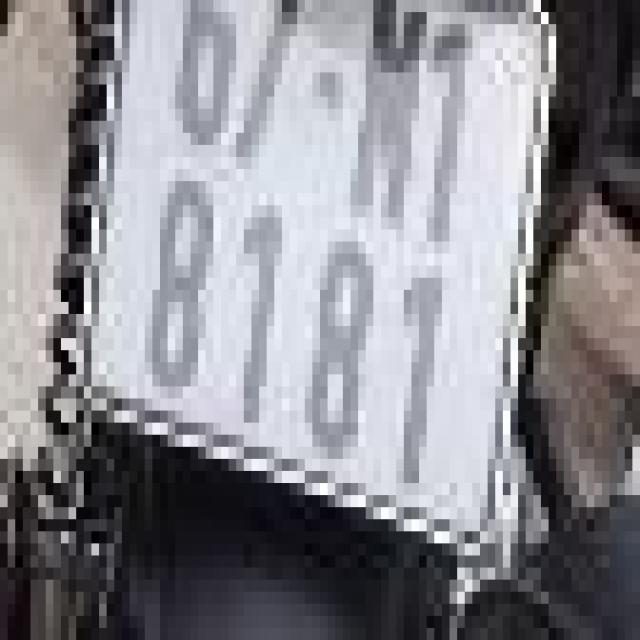1: (416, 0, 494, 266), (217, 194, 297, 438), (380, 256, 454, 504)
6: (165, 0, 250, 158)
7: (229, 0, 318, 181)
8: (135, 167, 230, 405), (300, 225, 384, 475)
M: (336, 0, 439, 248)
